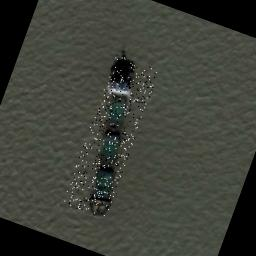boat: (62, 54, 160, 220)
